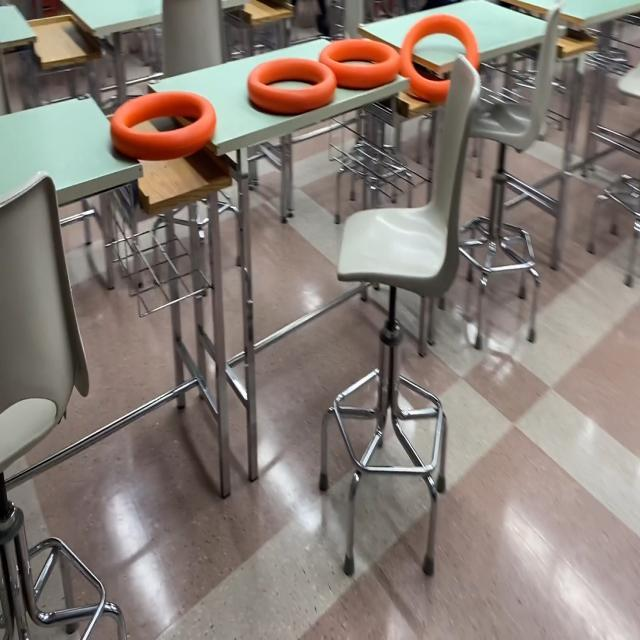note: (111, 88, 217, 163), (400, 12, 480, 106), (246, 58, 336, 118), (319, 36, 400, 90)
